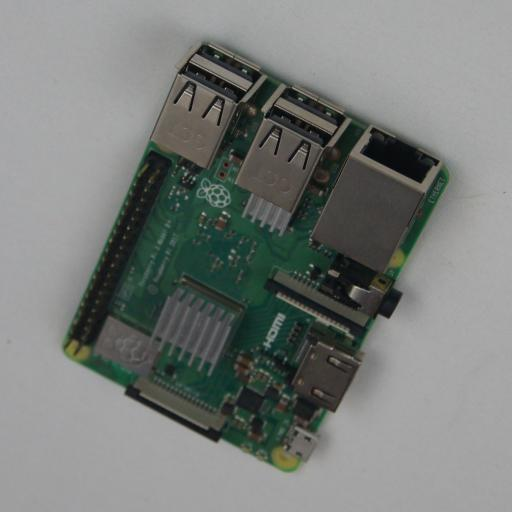Raspberry Pi 3 B-: (63, 41, 449, 471)
